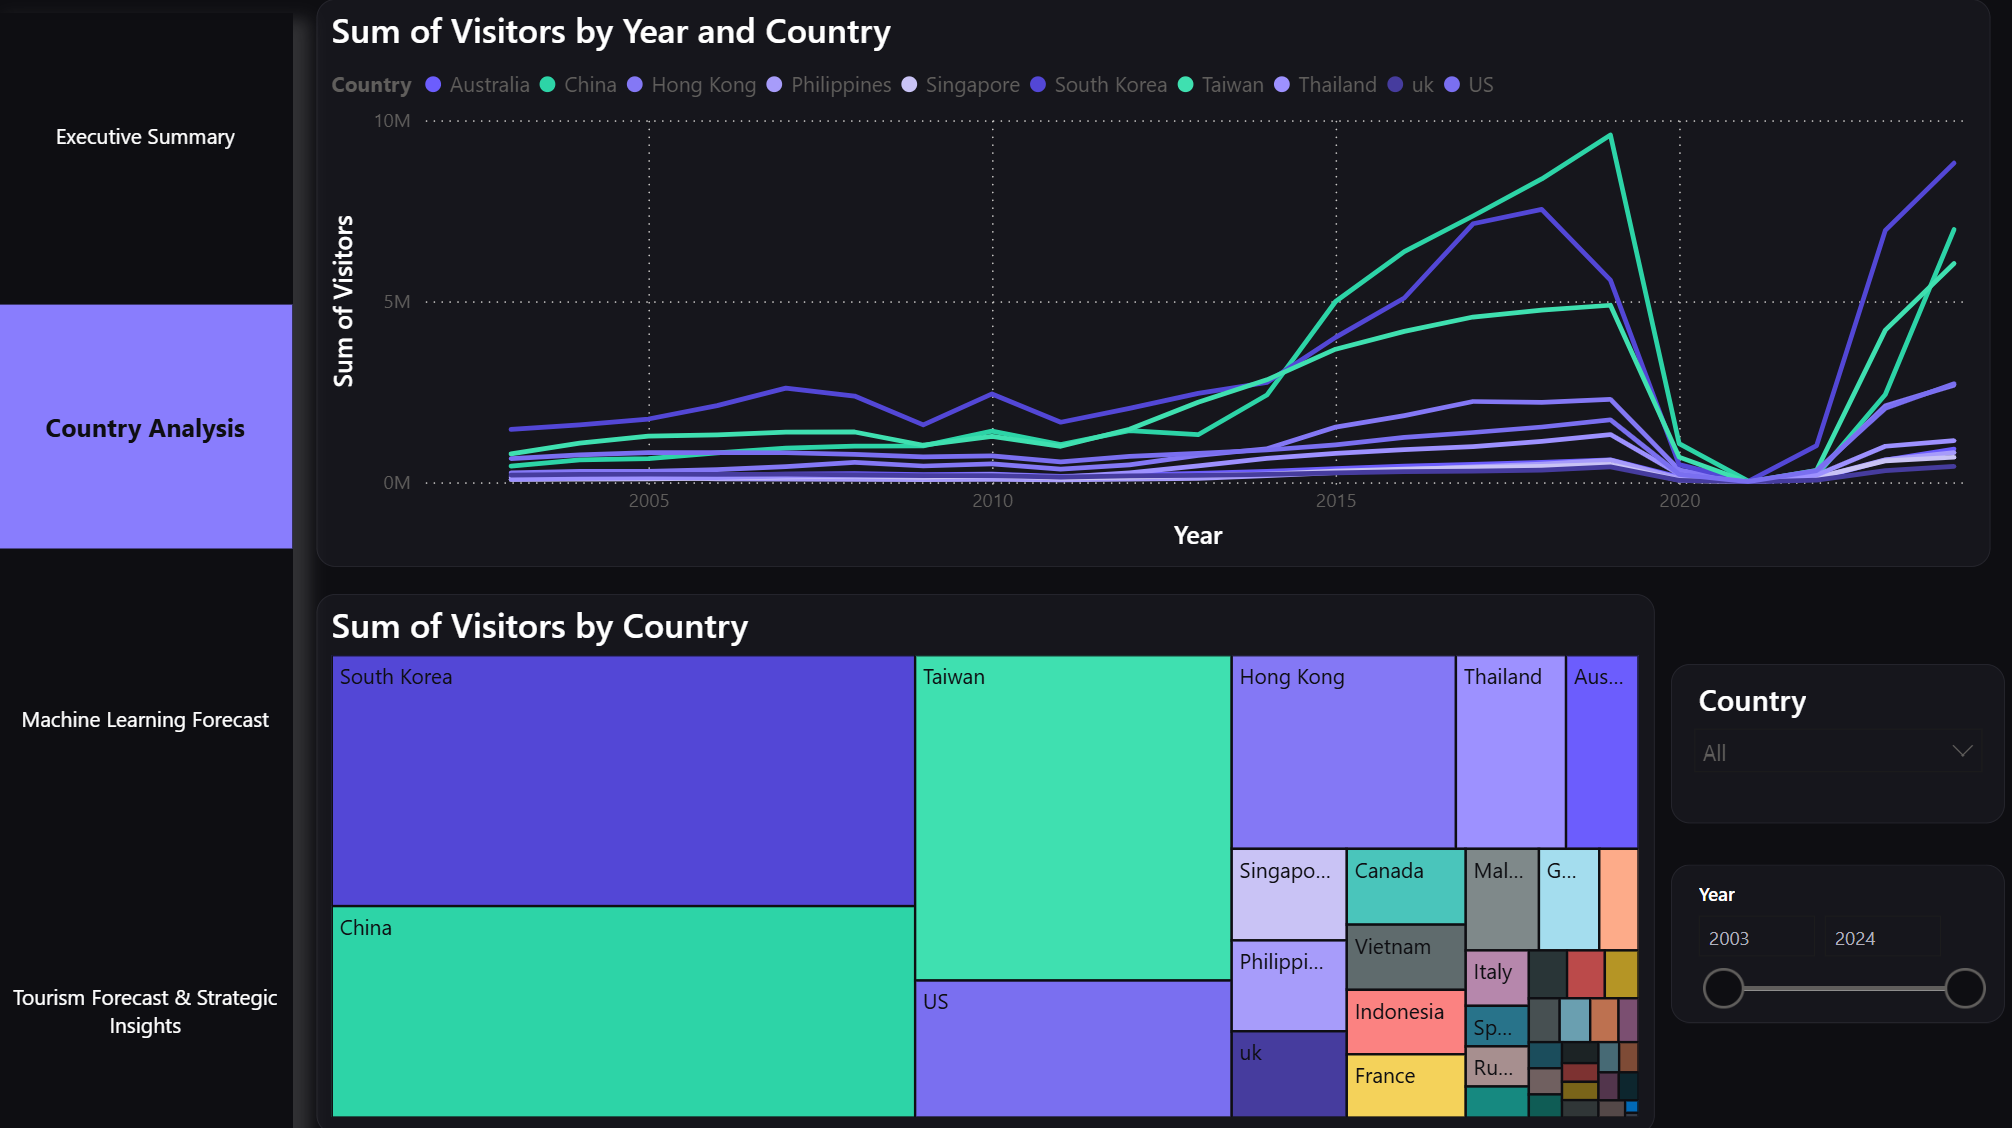

The page's visual inventory and layout, read from the dashboard file:
{"tool":"powerbi","page":{"name":"Country Analysis","canvas":[1280,720],"ordinal":1},"visuals":[{"type":"lineChart","fields":{"Y":["Sum(JTD_cleaned_1.Visitors)"],"Category":["JTD_cleaned_1.Year"],"Series":["JTD_cleaned_1.Country"]},"box":[202.3,0,1063,360.5],"z":0},{"type":"treemap","fields":{"Group":["JTD_cleaned_1.Country"],"Values":["Sum(JTD_cleaned_1.Visitors)"]},"box":[202.3,377.6,849.7,342.1],"z":1000},{"type":"pageNavigator","box":[0,8.6,187.6,711.1],"z":2000},{"type":"slicer","fields":{"Values":["JTD_cleaned_1.Country"]},"box":[1061.8,421.8,212.1,100.5],"z":2001},{"type":"slicer","fields":{"Values":["JTD_cleaned_1.Year"]},"box":[1061.8,549.3,212.1,100.5],"z":2002}]}

Visuals, with their boxes on the page's 1280x720 design canvas (x1, y1, x2, y2). These are canvas units, not pixel positions in the 2012x1128 screenshot, which may show the page scaled, cropped or inside an application window:
lineChart - Sum(JTD_cleaned_1.Visitors) x JTD_cleaned_1.Year: 202/0/1265/360
treemap - JTD_cleaned_1.Country x Sum(JTD_cleaned_1.Visitors): 202/378/1052/720
pageNavigator: 0/9/188/720
slicer - JTD_cleaned_1.Country: 1062/422/1274/522
slicer - JTD_cleaned_1.Year: 1062/549/1274/650
